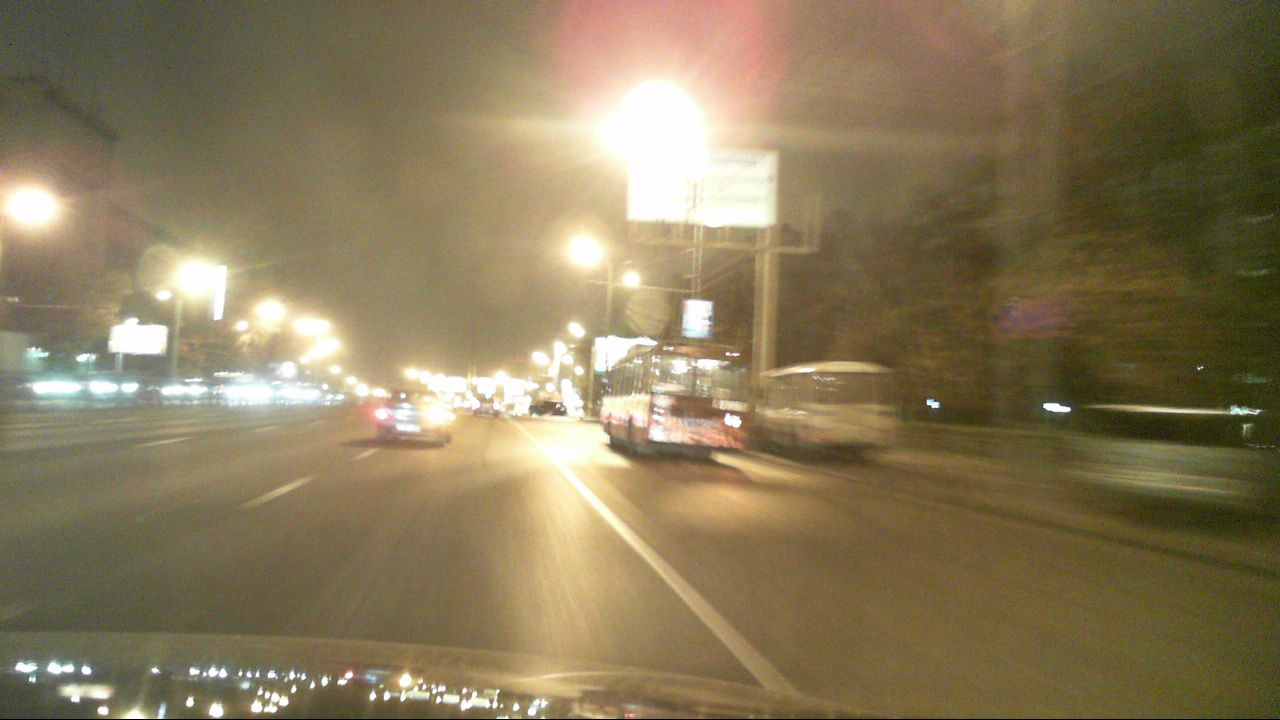No Parking: (985, 298, 1024, 339)
